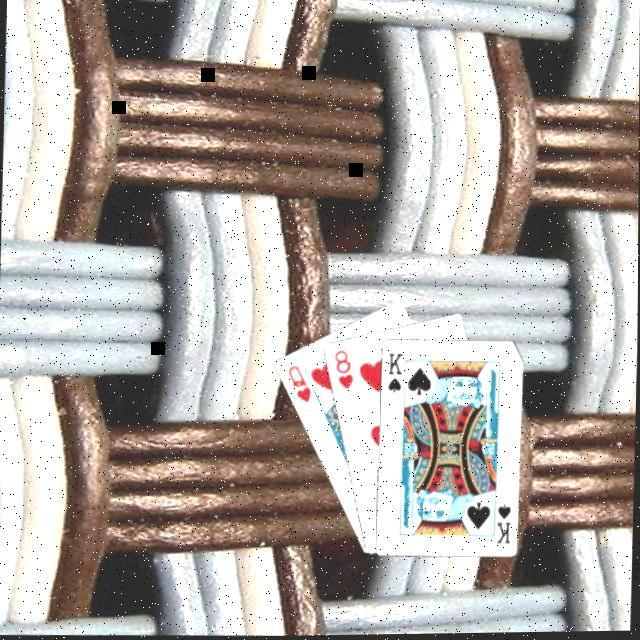8H: (330, 346, 358, 392)
KS: (490, 497, 516, 546), (386, 350, 406, 396)
QH: (285, 360, 316, 406)
